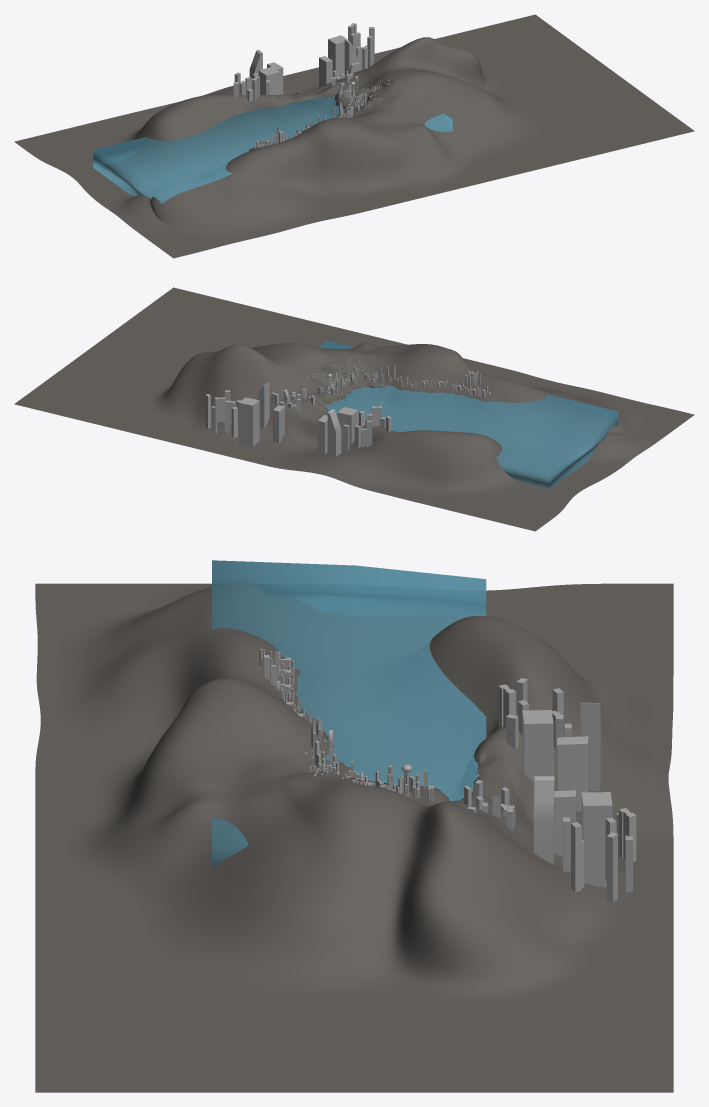
File: kuoStage_background_TESTSet.fbx
3 renders of one model, top to bottom at view 1: azimuth 30°, elevation 25°; view 2: azimuth 150°, elevation 25°; view 3: azimuth 270°, elevation 25°, orthographic. The views are drawn at different scales.
Parts seen in each view (by area): view 1: polySurface32; view 2: polySurface32; view 3: polySurface32.
Boxes of the visible parts, <box> form: polySurface32: <box>14,14,694,258</box>; polySurface32: <box>14,287,694,531</box>; polySurface32: <box>35,560,673,1092</box>.
Bounding box in the file's own units: 38201 × 4820 × 20243.
